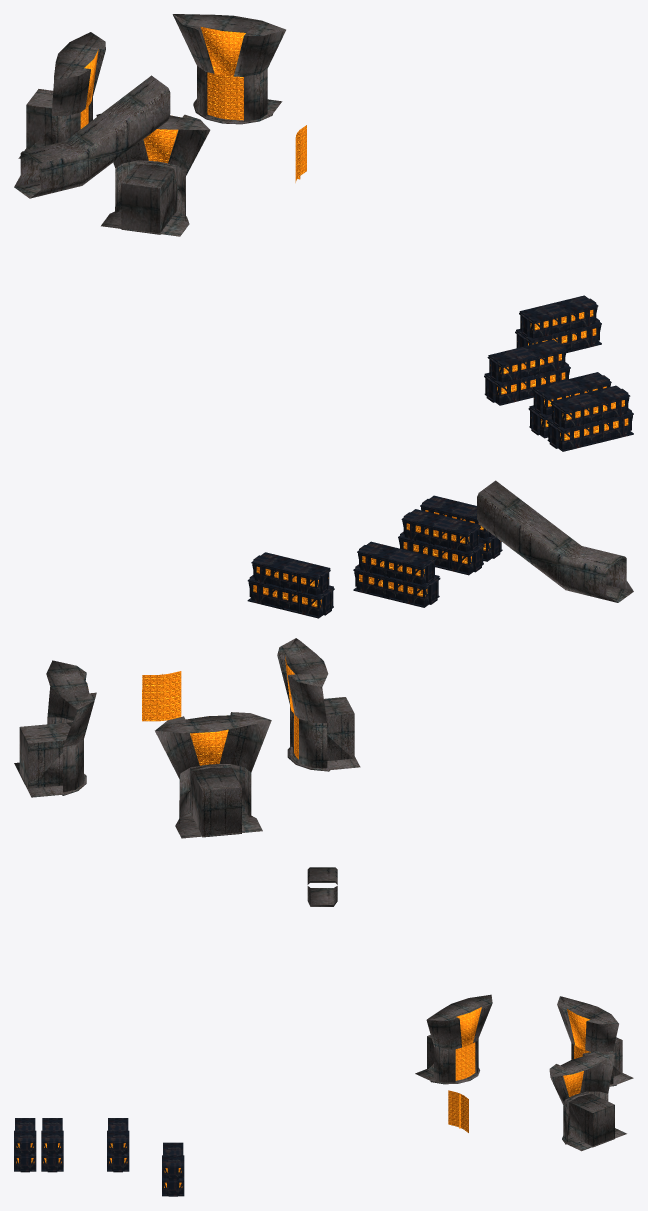
File: saturdayfixes.fbx
3 views of the same model, one above another, from view 1: azimuth 30°, elevation 25°; view 2: azimuth 150°, elevation 25°; view 3: azimuth 270°, elevation 25° (orthographic). The views are drawn at different scales.
Visible parts, largest first — view 1: CoreMain.053, BridgeCorridor, CoreMain.046, CoreMain.049, Res_Block.002, Res_Block.003, Res_Block.006, Res_Block.005, Res_Block.004, Res_Block.007, Res_Block.001, CoreMain.035 (+1 smaller); view 2: CoreMain.049, BridgeCorridor, CoreMain.046, CoreMain.053, Res_Block.002, Res_Block.007, Res_Block.003, Res_Block.001, Res_Block.004, Res_Block.008, Res_Block.006, CoreMain.040 (+1 smaller); view 3: CoreMain.046, CoreMain.053, CoreMain.049, Res_Block.002, Res_Block.003, Res_Block.006, Res_Block.007, BridgeCorridor, Res_Block.008, Res_Block.001, Res_Block.004, Res_Block.005.
Part boxes in pixels (bbox=[...]): CoreMain.053: bbox=[96, 113, 210, 236]; BridgeCorridor: bbox=[14, 75, 170, 198]; CoreMain.046: bbox=[172, 14, 285, 124]; CoreMain.049: bbox=[18, 32, 105, 158]; Res_Block.002: bbox=[519, 295, 598, 339]; Res_Block.003: bbox=[487, 339, 567, 383]; Res_Block.006: bbox=[550, 385, 630, 429]; Res_Block.005: bbox=[547, 408, 633, 451]; Res_Block.004: bbox=[484, 362, 570, 405]; Res_Block.007: bbox=[532, 372, 611, 415]; Res_Block.001: bbox=[515, 318, 601, 352]; CoreMain.035: bbox=[224, 75, 243, 120]; CoreMain.049: bbox=[155, 712, 271, 838]; BridgeCorridor: bbox=[477, 480, 633, 602]; CoreMain.046: bbox=[14, 660, 96, 797]; CoreMain.053: bbox=[277, 638, 360, 771]; Res_Block.002: bbox=[251, 552, 330, 596]; Res_Block.007: bbox=[401, 509, 480, 553]; Res_Block.003: bbox=[357, 541, 436, 585]; Res_Block.001: bbox=[247, 575, 334, 618]; Res_Block.004: bbox=[353, 564, 440, 607]; Res_Block.008: bbox=[398, 531, 484, 575]; Res_Block.006: bbox=[420, 495, 493, 539]; CoreMain.040: bbox=[142, 674, 162, 721]; CoreMain.046: bbox=[549, 1051, 626, 1151]; CoreMain.053: bbox=[415, 994, 492, 1084]; CoreMain.049: bbox=[557, 996, 633, 1086]; Res_Block.002: bbox=[163, 1142, 183, 1180]; Res_Block.003: bbox=[108, 1118, 128, 1155]; Res_Block.006: bbox=[15, 1118, 35, 1155]; Res_Block.007: bbox=[42, 1118, 62, 1155]; BridgeCorridor: bbox=[307, 867, 337, 906]; Res_Block.008: bbox=[41, 1130, 63, 1172]; Res_Block.001: bbox=[162, 1155, 184, 1196]; Res_Block.004: bbox=[107, 1130, 129, 1172]; Res_Block.005: bbox=[14, 1130, 36, 1172].
Bounding box in the file's own units: 15474 × 8248 × 23737.
Materials: 3 (3 with a texture image).
